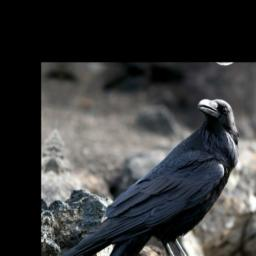Crow: (44, 79, 245, 256)
